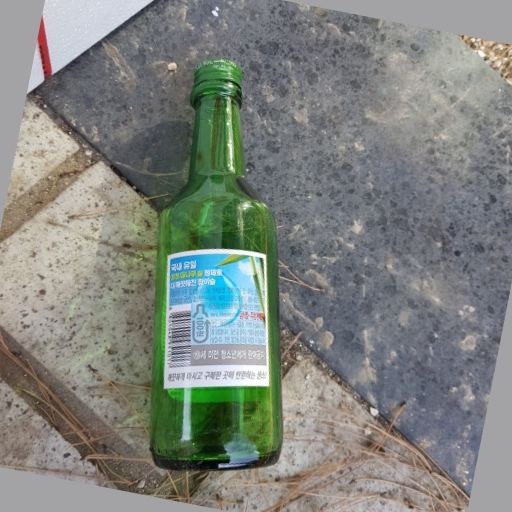Glass_0: (146, 57, 283, 473)
